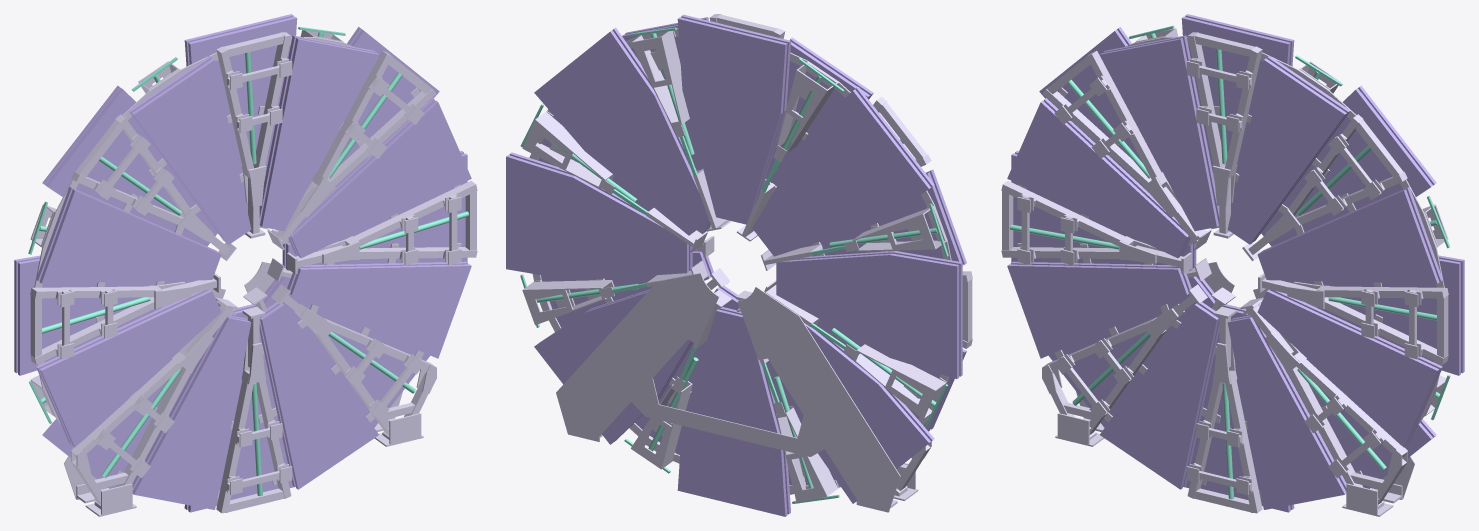
Rendered from Small-Wheel-Chambers-SideC.glb.
3 renders of one model, left to right at view 1: azimuth 30°, elevation 25°; view 2: azimuth 150°, elevation 25°; view 3: azimuth 330°, elevation 25°, orthographic.
Visible parts, largest first — view 1: null; view 2: null; view 3: null.
Boxes of the visible parts, box(x1,y1,x2,y2) form: null: box(14, 14, 477, 516); null: box(506, 14, 972, 516); null: box(1001, 14, 1464, 516).
Bounding box in the file's own units: 9.29 × 9.29 × 0.9681.
